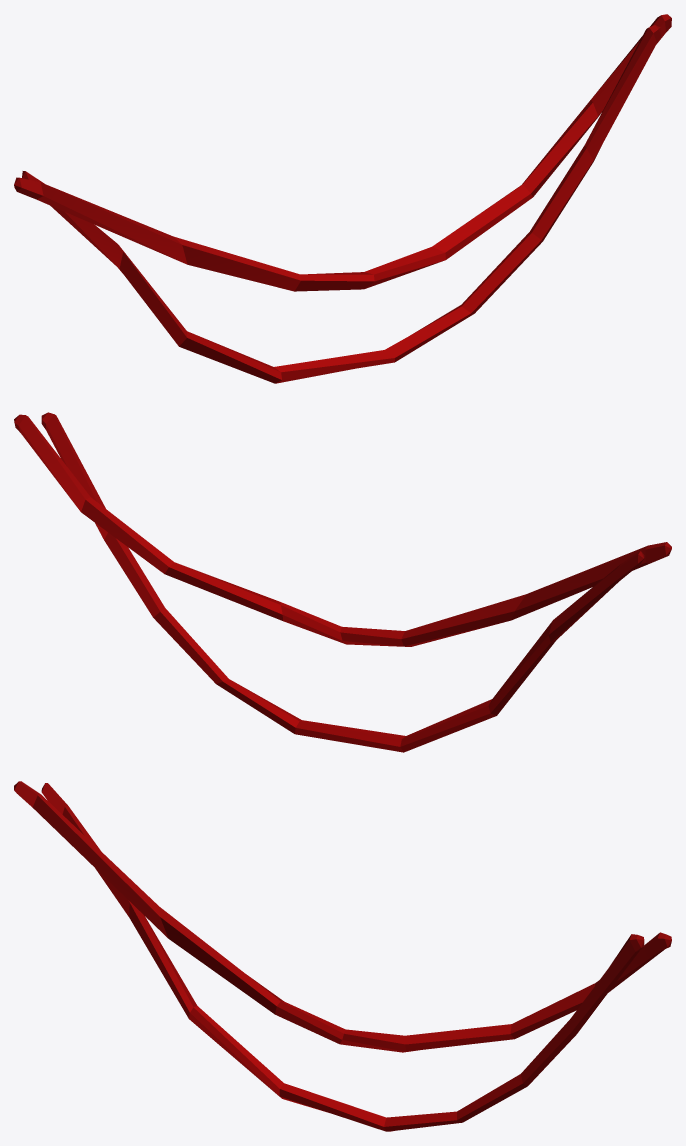
Rendered from SM_Gen_Env_Vines_02.glb.
The picture shows the model from 3 angles, top to bottom: view 1: azimuth 30°, elevation 25°; view 2: azimuth 150°, elevation 25°; view 3: azimuth 330°, elevation 25°; orthographic projection. The views are drawn at different scales.
Parts seen in each view (by area): view 1: SM_Gen_Env_Vines_022; view 2: SM_Gen_Env_Vines_022; view 3: SM_Gen_Env_Vines_022.
Part boxes in pixels (x1,y1,x2,y2): SM_Gen_Env_Vines_022: [14, 14, 671, 383]; SM_Gen_Env_Vines_022: [14, 412, 671, 752]; SM_Gen_Env_Vines_022: [14, 781, 671, 1131].
Size of the model in its own units: 3.63 by 1.47 by 0.3122.
